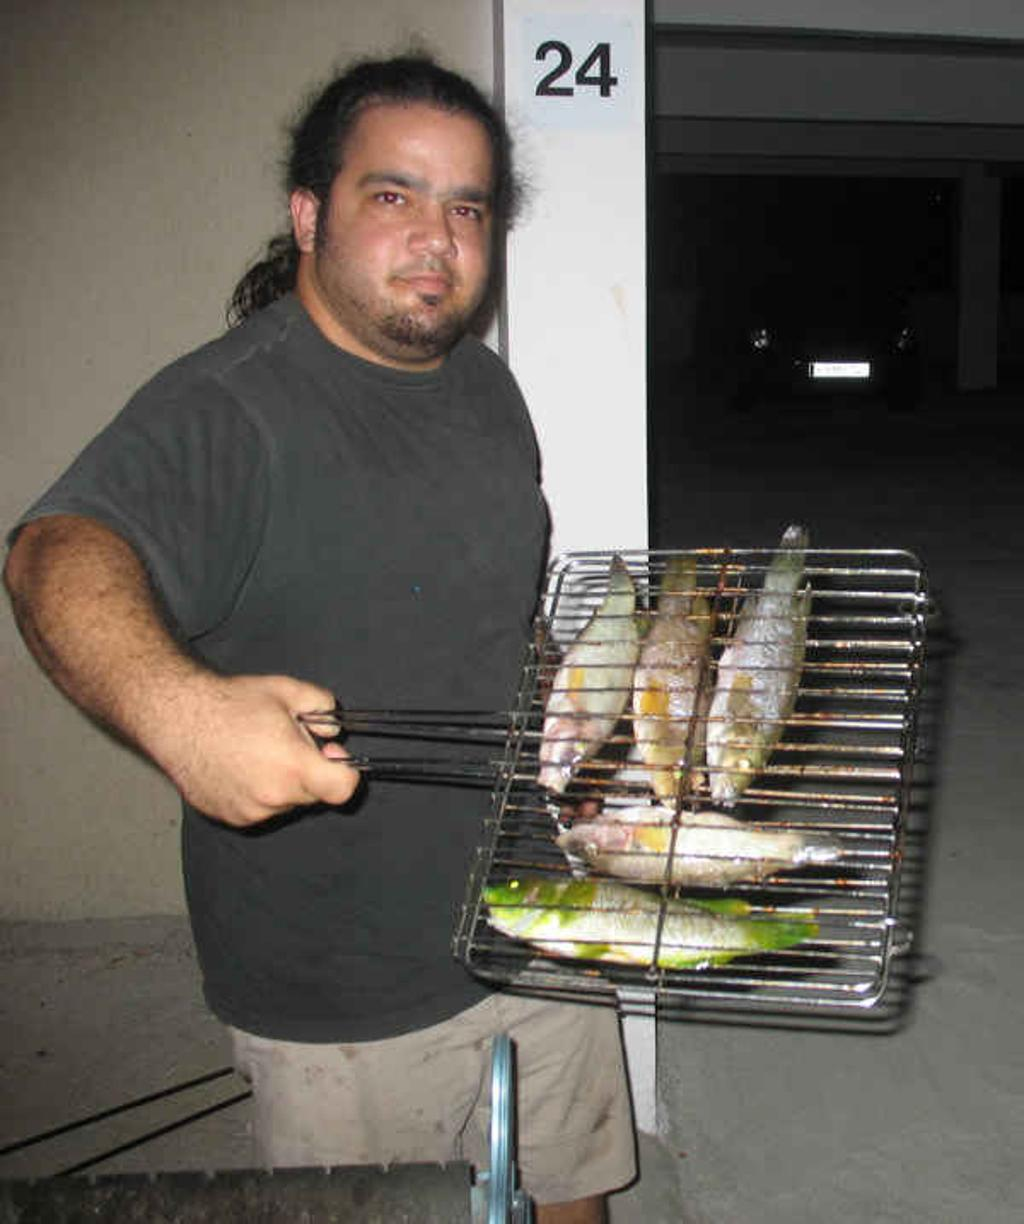face: (322, 113, 497, 343)
